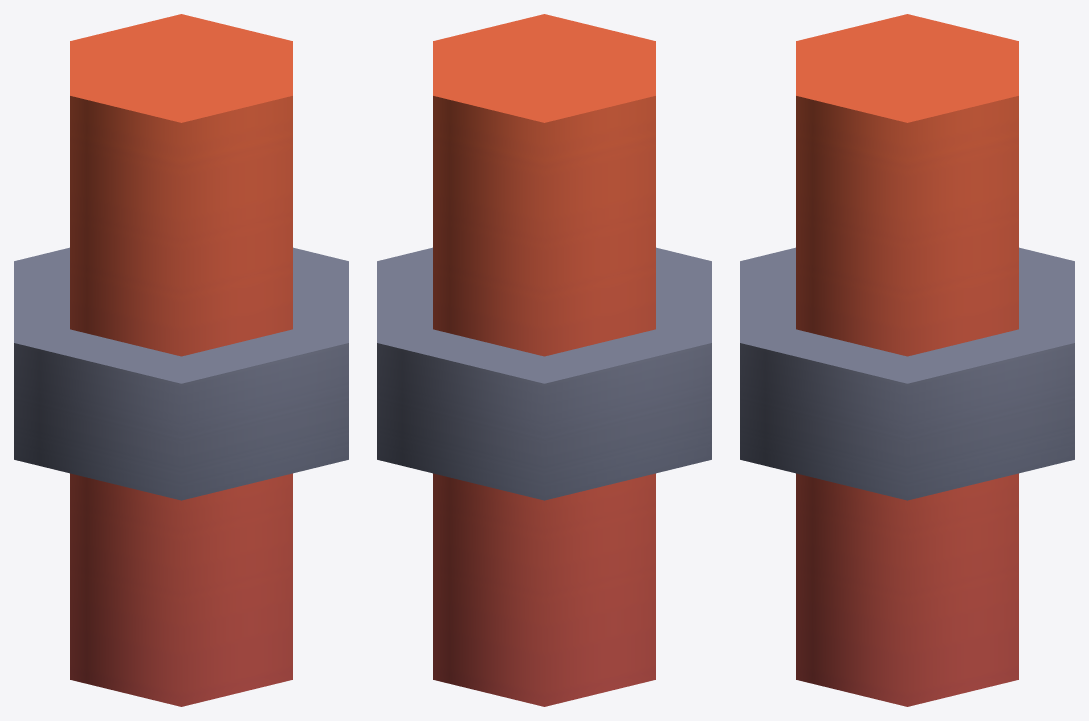
File: pipe-half-section.fbx
3 renders of one model, left to right at view 1: azimuth 30°, elevation 25°; view 2: azimuth 150°, elevation 25°; view 3: azimuth 270°, elevation 25°, orthographic.
Parts seen in each view (by area): view 1: pipe-half-section; view 2: pipe-half-section; view 3: pipe-half-section.
Part boxes in pixels (bbox=[...]): pipe-half-section: bbox=[14, 14, 348, 706]; pipe-half-section: bbox=[377, 14, 711, 706]; pipe-half-section: bbox=[740, 14, 1074, 706].
Size of the model in its own units: 30 by 50 by 25.98.
